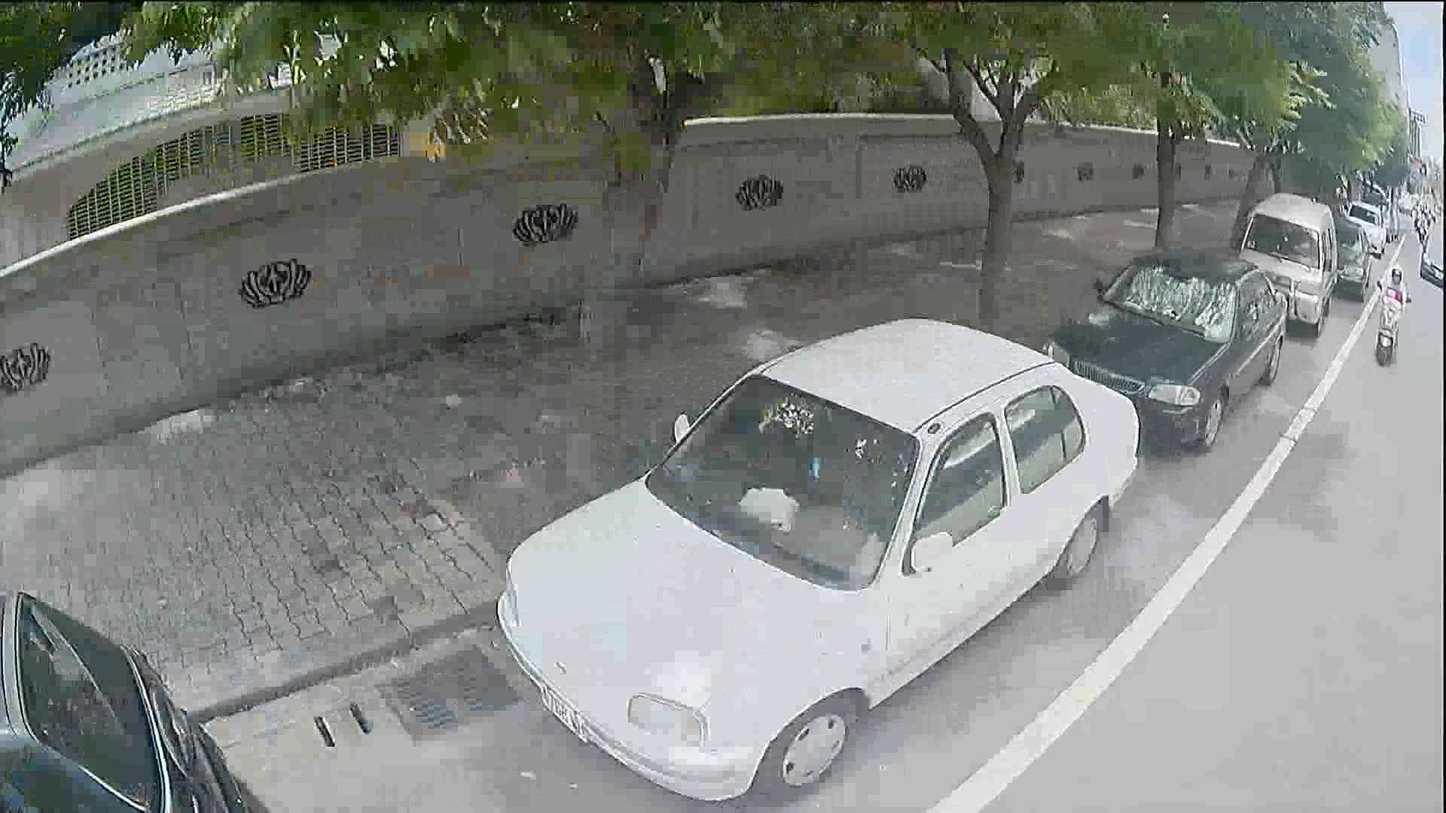person: (1380, 266, 1406, 310)
